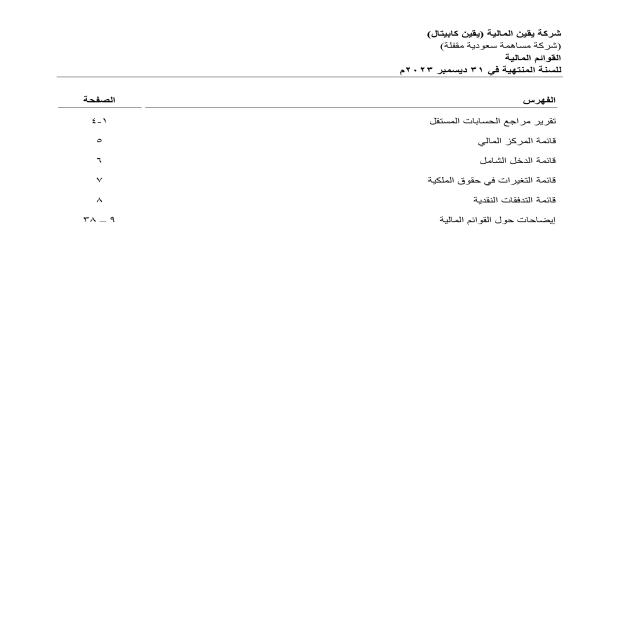other: (65, 83, 570, 263)
